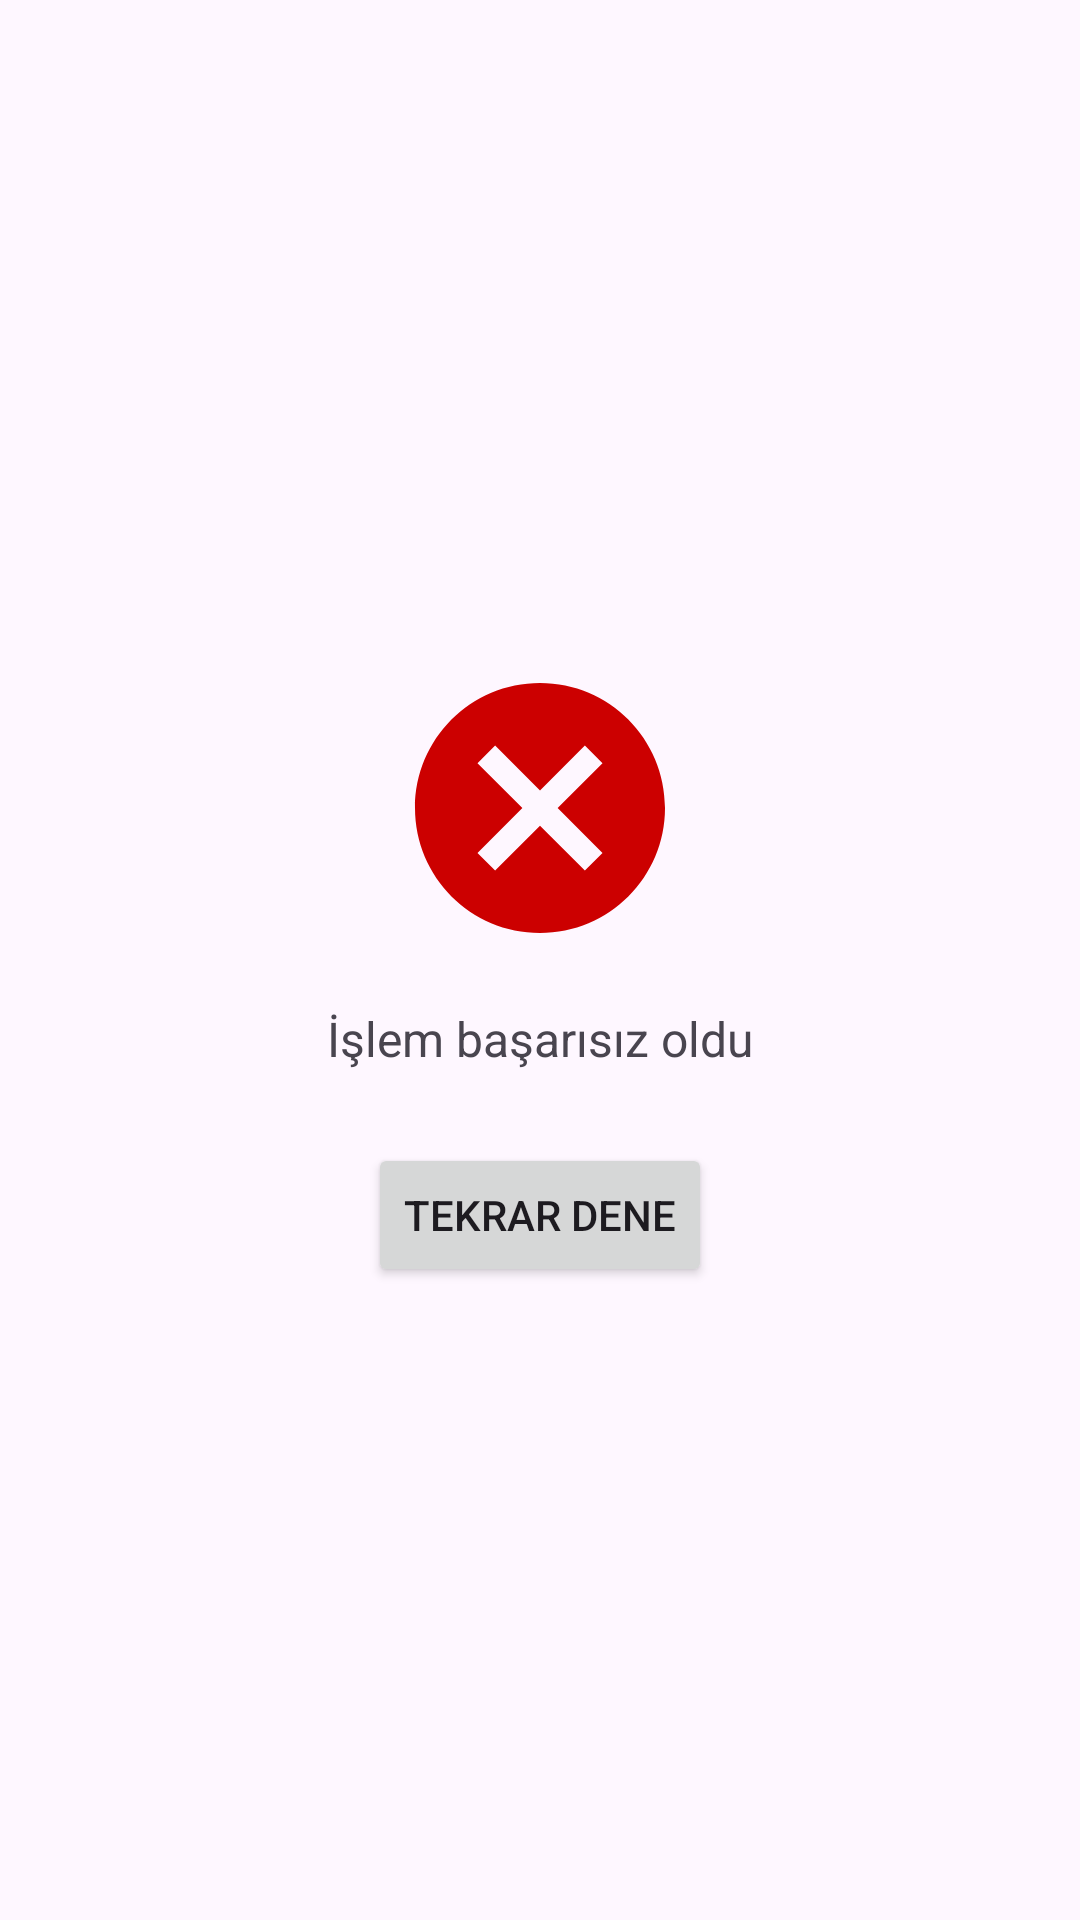

Icon bounding boxes for this 1080x1920 phone screenshot, format (x1, y1, x2, y2):
error: (415, 683, 665, 933)
